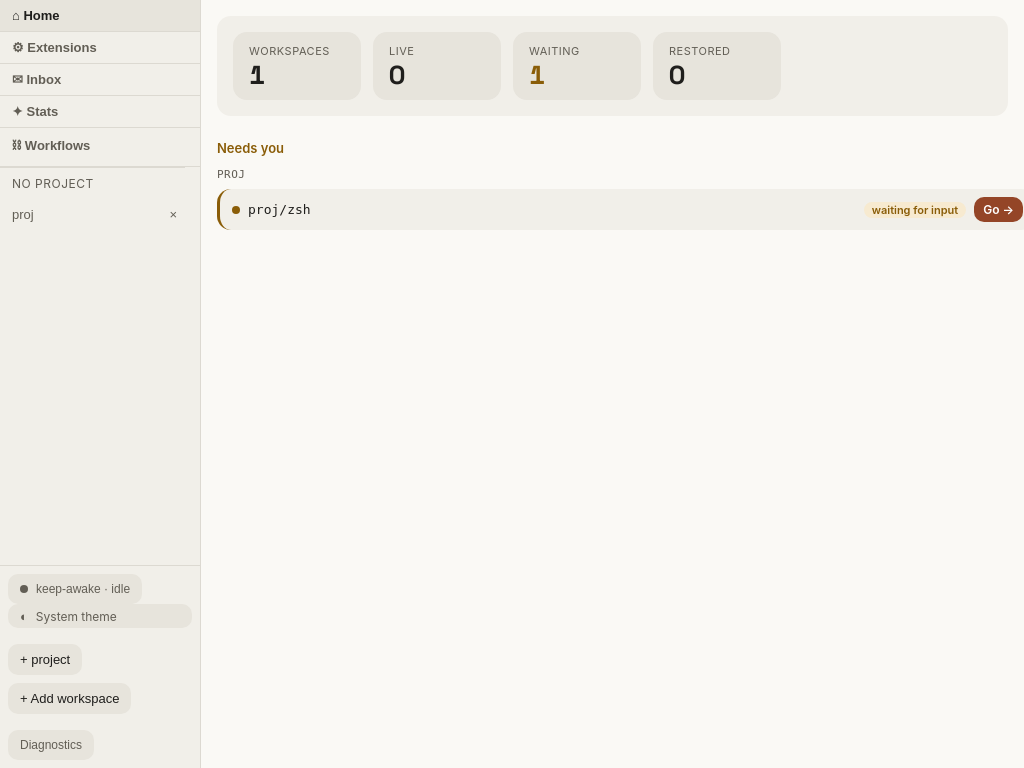
it: T11: attention-first Home, view switch, watch + fs/workspace event wiring › end-to-end: Go from Home switches to the workspace view with that session active and focuses its terminal
Check: the element with test id "home-stats" is shown, box [217,16,1008,116]
Click the button "Go →": (999, 210) [974,197,1023,222]
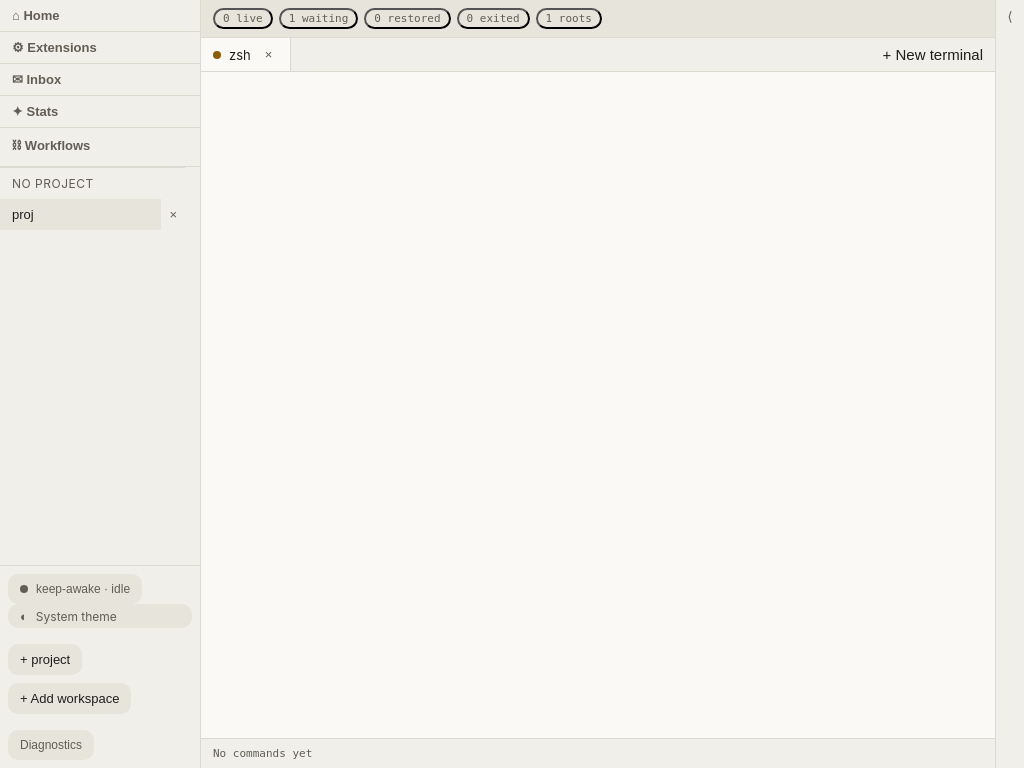
Check: the element with test id "terminal-pane-s1" is shown
